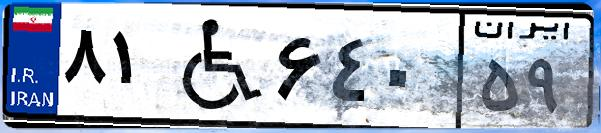0: (385, 28, 445, 110)
1: (110, 28, 158, 98)
4: (330, 28, 385, 110)
5: (475, 38, 525, 113)
6: (270, 28, 330, 110)
8: (57, 26, 110, 100)
9: (525, 38, 570, 115)
ژ (معلولین و جانبازان): (158, 12, 270, 120)
